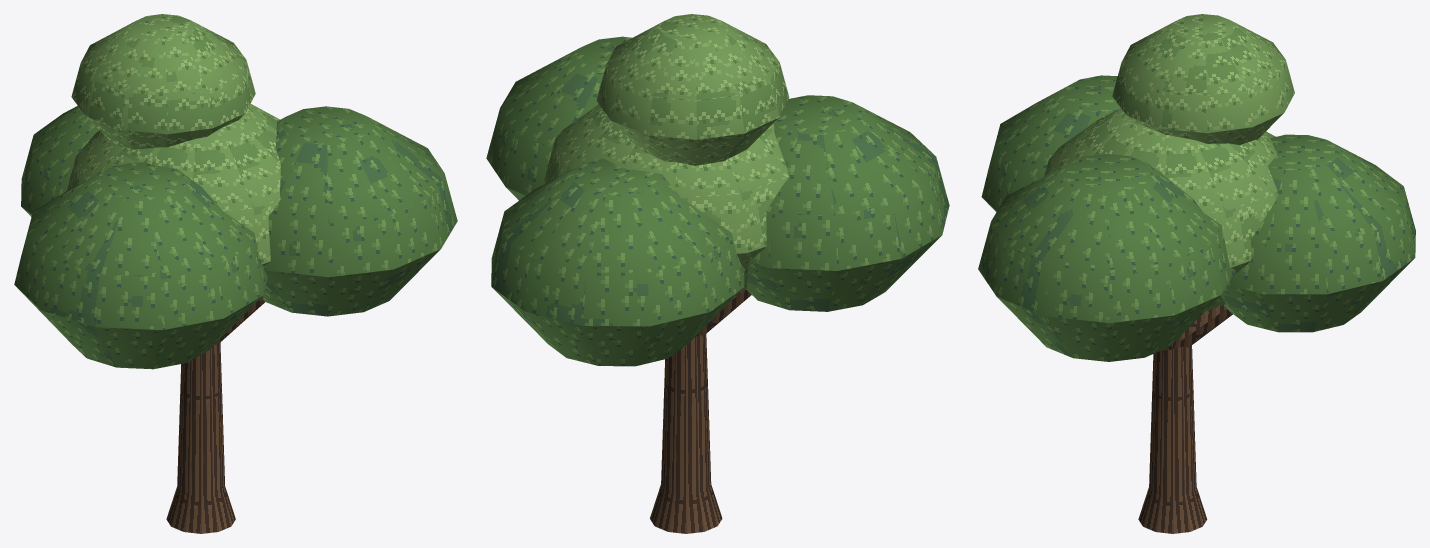
The model's file is oak_2.glb.
3 renders of one model, left to right at view 1: azimuth 30°, elevation 25°; view 2: azimuth 150°, elevation 25°; view 3: azimuth 270°, elevation 25°, orthographic. The views are drawn at different scales.
Visible parts, largest first — view 1: oak_3; view 2: oak_3; view 3: oak_3.
Boxes of the visible parts, x1=… form: oak_3: x1=14, y1=14, x2=457, y2=533; oak_3: x1=486, y1=14, x2=949, y2=533; oak_3: x1=978, y1=14, x2=1415, y2=533.
Size of the model in its own units: 3.88 by 4.4 by 3.63.
3 materials, 3 textured.
